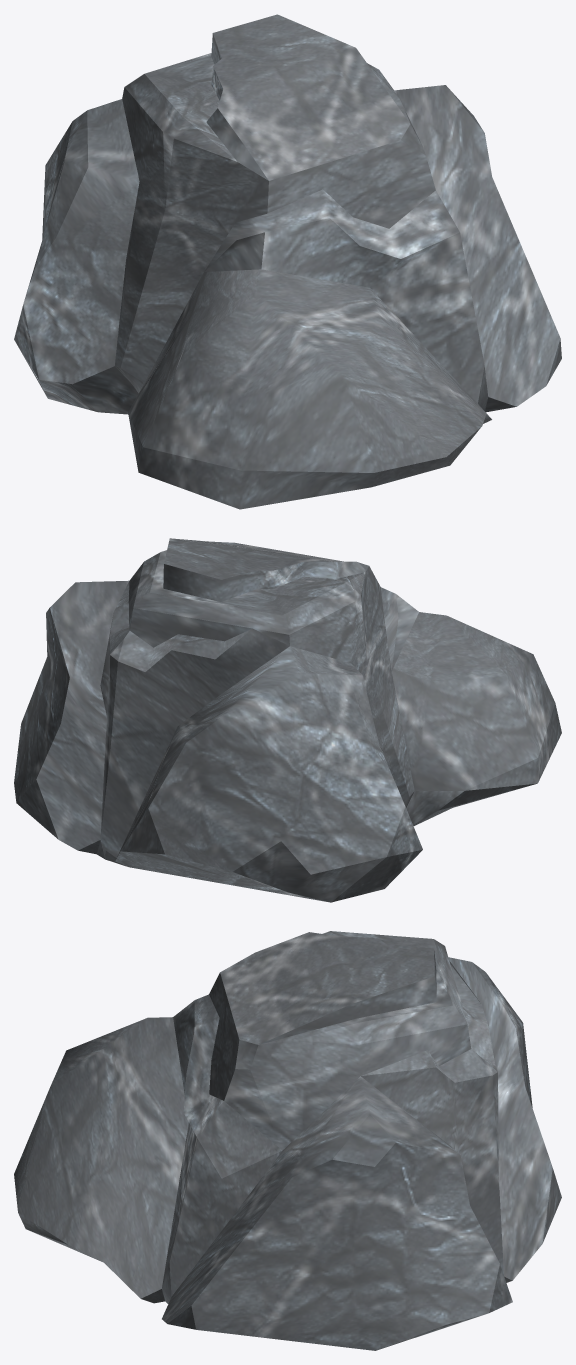
The model's file is RockBigA.fbx.
The picture shows the model from 3 angles, top to bottom: view 1: azimuth 30°, elevation 25°; view 2: azimuth 150°, elevation 25°; view 3: azimuth 270°, elevation 25°; orthographic projection. The views are drawn at different scales.
Visible parts, largest first — view 1: RockBigA; view 2: RockBigA; view 3: RockBigA.
Part boxes in pixels (x1=…): RockBigA: x1=14, y1=14, x2=561, y2=509; RockBigA: x1=14, y1=538, x2=561, y2=902; RockBigA: x1=14, y1=931, x2=561, y2=1350.
Size of the model in its own units: 629 by 407 by 659.
